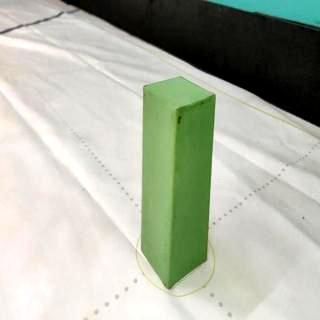greenbox: (142, 74, 216, 288)
